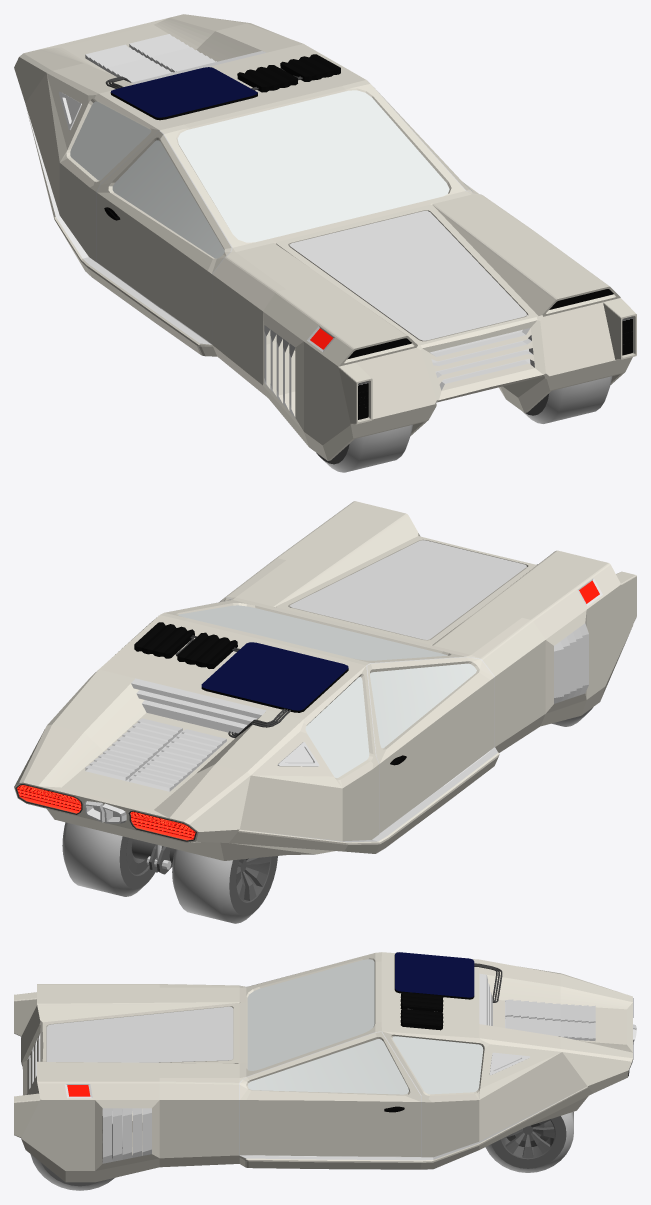
The model's file is Car.fbx.
The picture shows the model from 3 angles, top to bottom: view 1: azimuth 30°, elevation 25°; view 2: azimuth 150°, elevation 25°; view 3: azimuth 270°, elevation 25°; orthographic projection. The views are drawn at different scales.
Visible parts, largest first — view 1: Carro.001, windows, Cube.001, RodasTraseiras, lights; view 2: Carro.001, windows, RodasTraseiras, Cube.001, lights; view 3: Carro.001, windows, Cube.001, RodasTraseiras.
Part boxes in pixels (x1,y1,x2,y2): Carro.001: [14, 14, 636, 460]; windows: [70, 90, 472, 258]; Cube.001: [105, 54, 340, 120]; RodasTraseiras: [316, 376, 612, 472]; lights: [310, 289, 632, 419]; Carro.001: [14, 501, 636, 860]; windows: [178, 605, 476, 778]; RodasTraseiras: [62, 707, 593, 923]; Cube.001: [134, 622, 348, 737]; lights: [15, 580, 599, 841]; Carro.001: [14, 952, 636, 1182]; windows: [247, 959, 483, 1094]; Cube.001: [394, 952, 502, 1030]; RodasTraseiras: [30, 1109, 573, 1190].
Bounding box in the file's own units: 687 × 432 × 1559.
